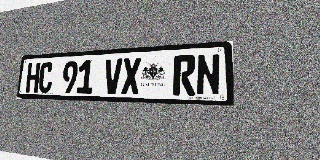1: (76, 60, 94, 94)
9: (62, 61, 78, 93)
C: (38, 62, 54, 93)
H: (25, 63, 40, 93)
N: (196, 53, 220, 96)
R: (173, 55, 196, 96)
V: (103, 58, 122, 94)
X: (121, 57, 141, 95)
